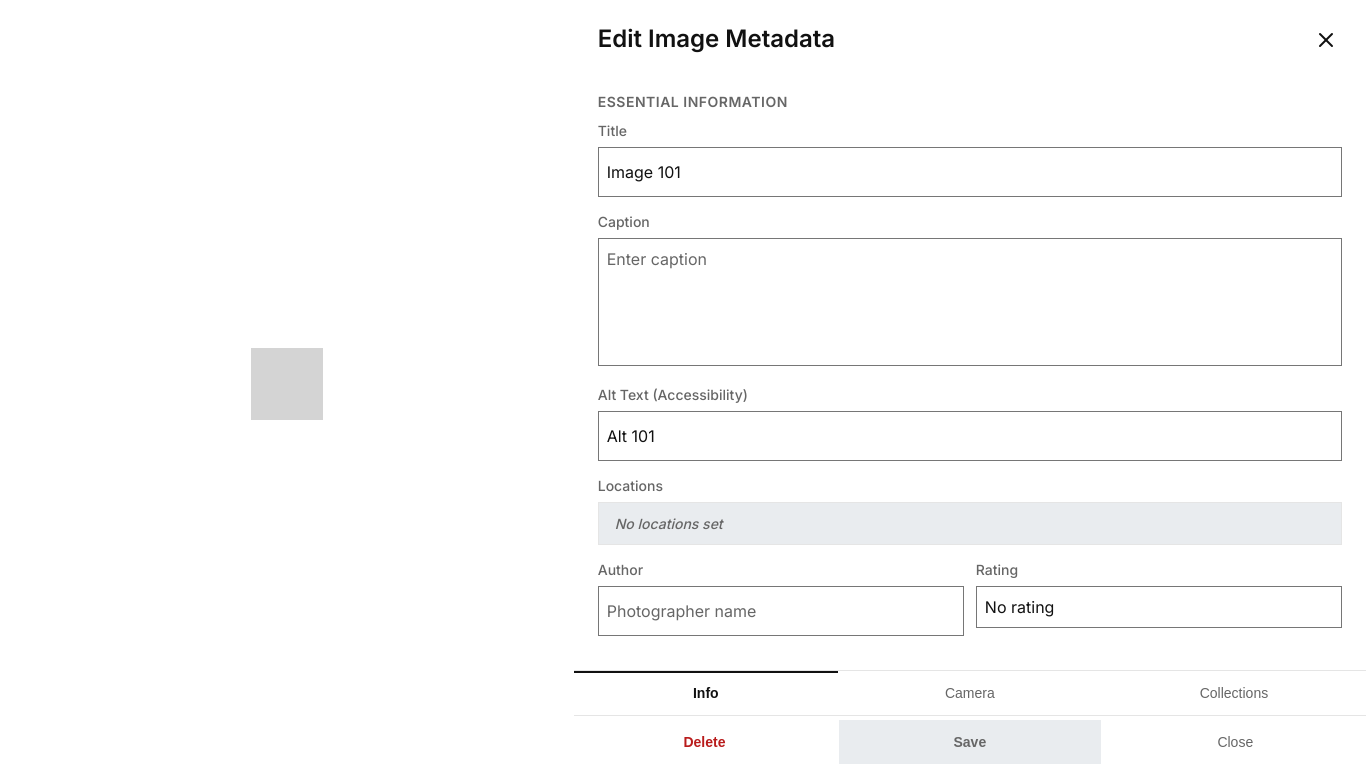
Test: MetadataModal — cancel/close button label › switches the label to "Cancel" once a field is edited
Replace the text in the field with placeholder "Enter image title" below "Title" with "A brand new title" at (970,172), box [598,147,1342,197]
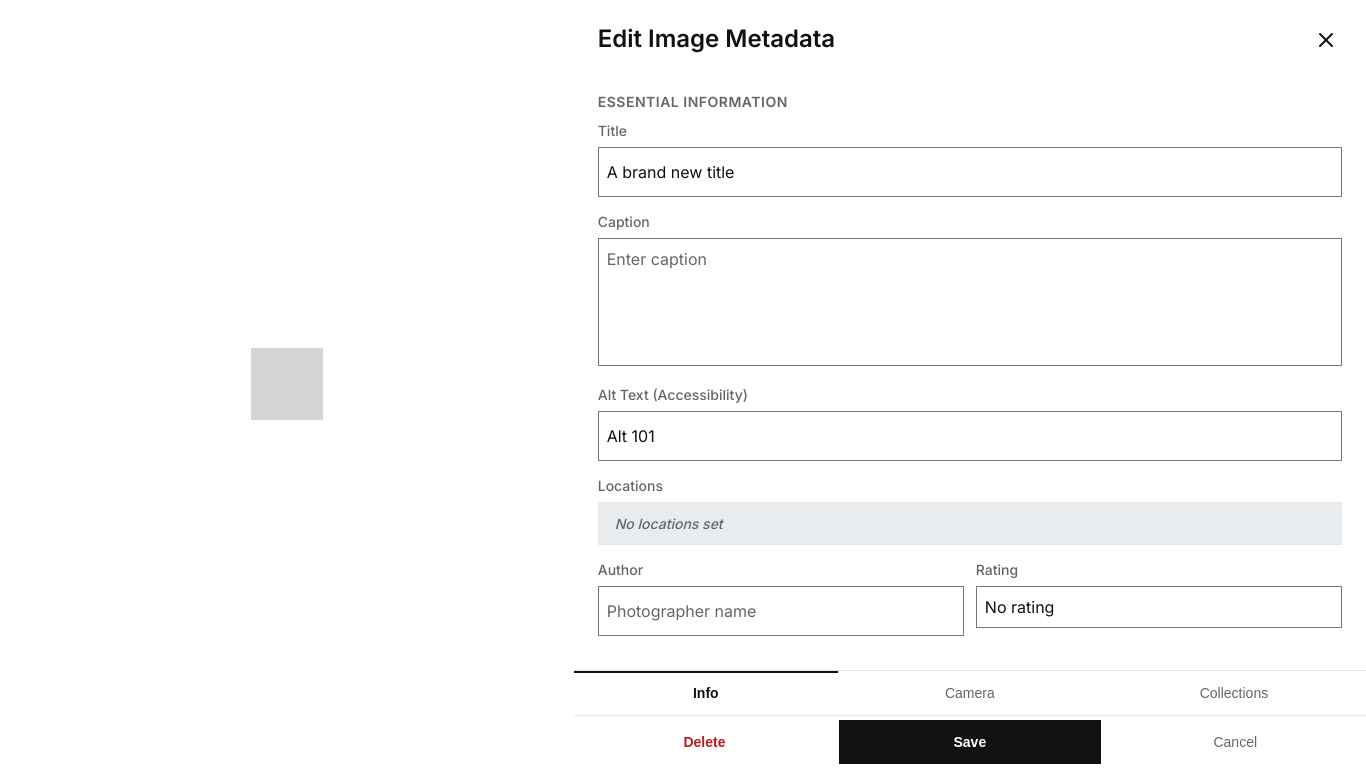
expect the button "Cancel" is shown: met, box [1105,716,1365,767]
expect the button "Close" is gone: met
